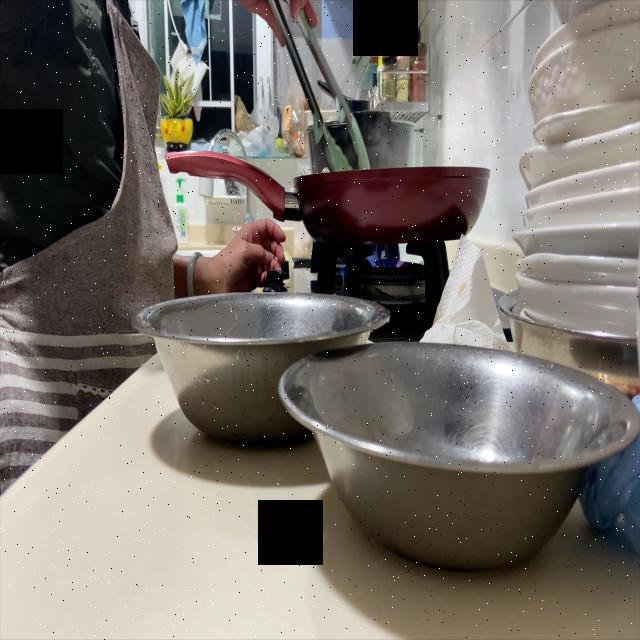Flame: (361, 248, 404, 284)
Pan: (224, 159, 502, 248)
